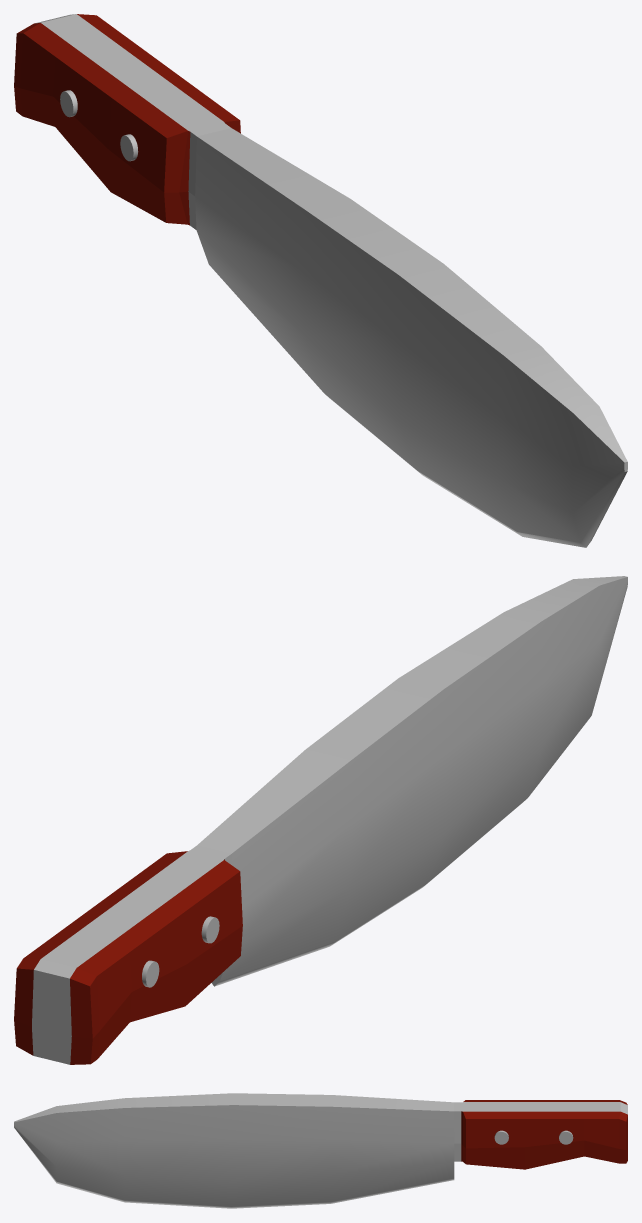
Rendered from Knife.FBX.
3 renders of one model, top to bottom at view 1: azimuth 30°, elevation 25°; view 2: azimuth 150°, elevation 25°; view 3: azimuth 270°, elevation 25°, orthographic. The views are drawn at different scales.
Visible parts, largest first — view 1: Box001; view 2: Box001; view 3: Box001.
Part boxes in pixels (x1,y1,x2,y2): Box001: [14, 14, 627, 547]; Box001: [14, 576, 627, 1064]; Box001: [14, 1093, 627, 1208].
Size of the model in its own units: 19 by 43.57 by 221.
